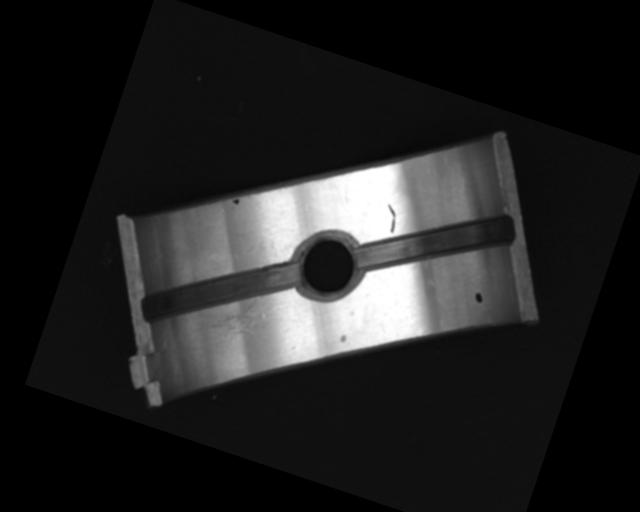blot: (472, 290, 486, 305), (230, 196, 241, 206)
bruise: (338, 331, 348, 344)
gap: (138, 220, 304, 362), (354, 177, 513, 311)
hole: (285, 221, 369, 307)
nick: (380, 204, 402, 234)
scratch: (190, 279, 270, 353)
